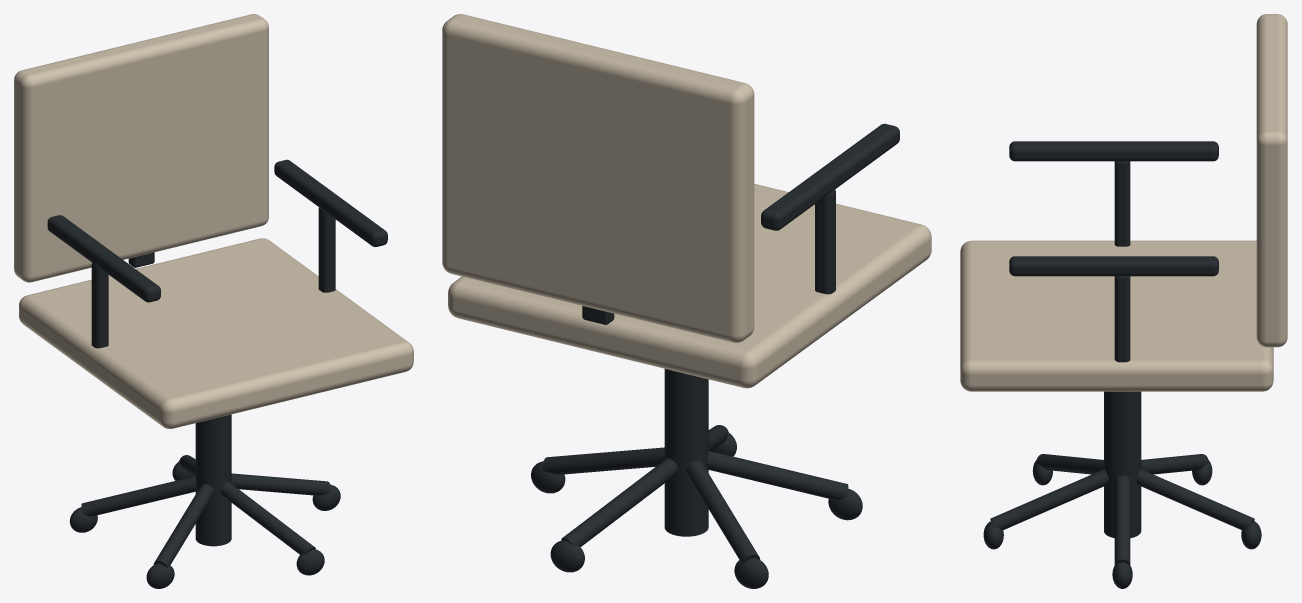
File: chair-3.glb
3 renders of one model, left to right at view 1: azimuth 30°, elevation 25°; view 2: azimuth 150°, elevation 25°; view 3: azimuth 270°, elevation 25°, orthographic. The views are drawn at different scales.
Visible parts, largest first — view 1: chair:3:archviz; view 2: chair:3:archviz; view 3: chair:3:archviz.
Part boxes in pixels (<box>): chair:3:archviz: <box>14,14,413,588</box>; chair:3:archviz: <box>442,14,931,588</box>; chair:3:archviz: <box>960,14,1287,588</box>.
Size of the model in its own units: 0.5355 by 0.895 by 0.58.
